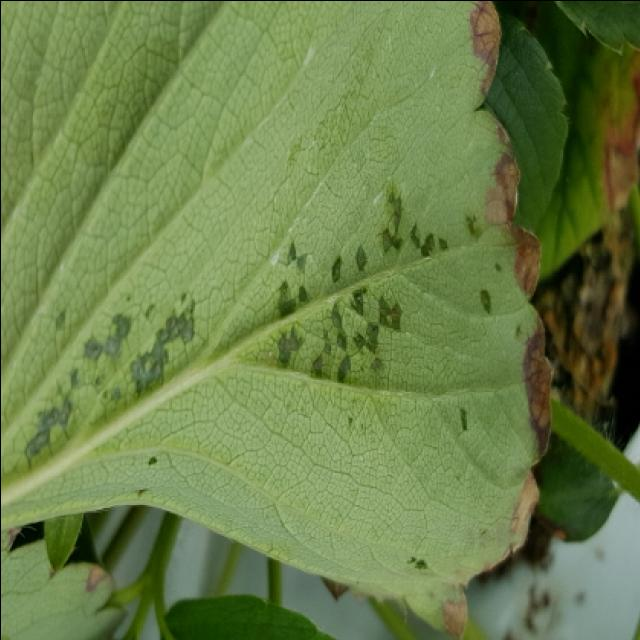Angular Leafspot: (12, 2, 554, 640)
